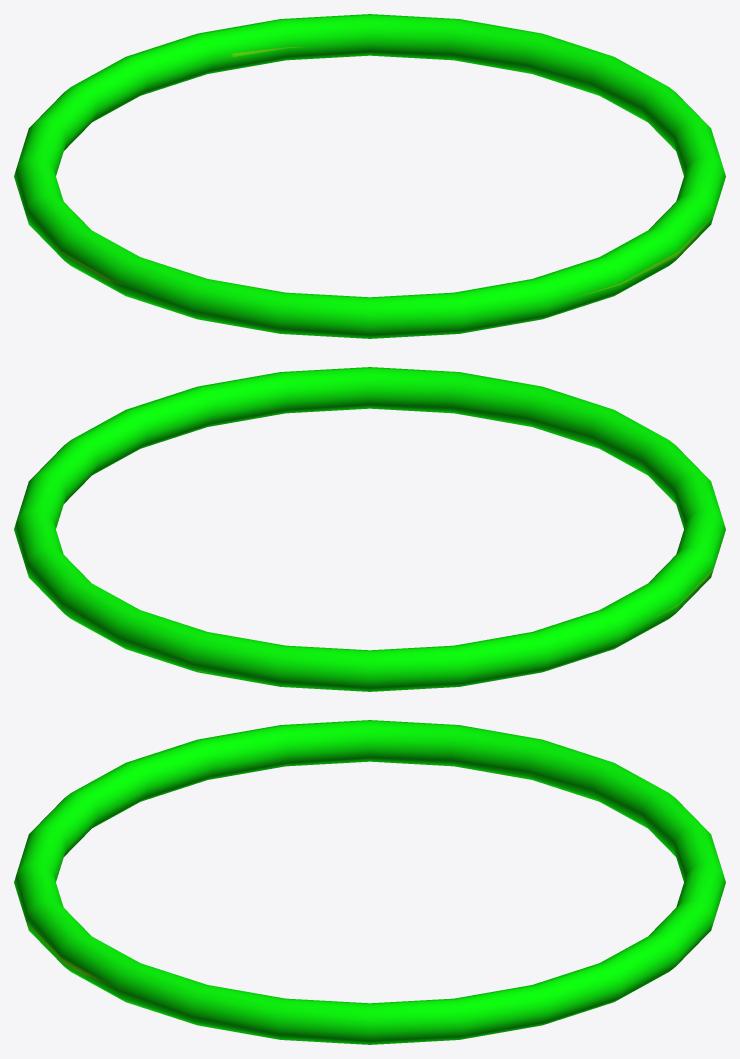
File: Ring3P.FBX
3 views of the same model, one above another, from view 1: azimuth 30°, elevation 25°; view 2: azimuth 150°, elevation 25°; view 3: azimuth 270°, elevation 25° (orthographic).
Visible parts, largest first — view 1: Torus001; view 2: Torus001; view 3: Torus001.
Part boxes in pixels (x1,y1,x2,y2): Torus001: [14, 14, 725, 338]; Torus001: [14, 367, 725, 691]; Torus001: [14, 720, 725, 1044].
Bounding box in the file's own units: 160 × 160 × 9.38.
1 material, 1 textured.
